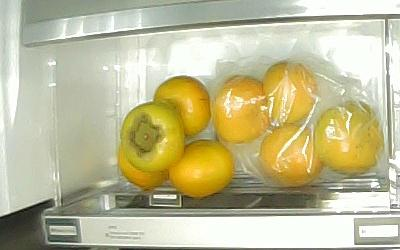persimmon: (119, 100, 184, 172), (167, 138, 235, 199), (152, 75, 211, 137), (115, 143, 168, 193)
persimmon_vinyl: (315, 100, 382, 173), (212, 75, 270, 145), (260, 125, 323, 188), (263, 58, 317, 126)
